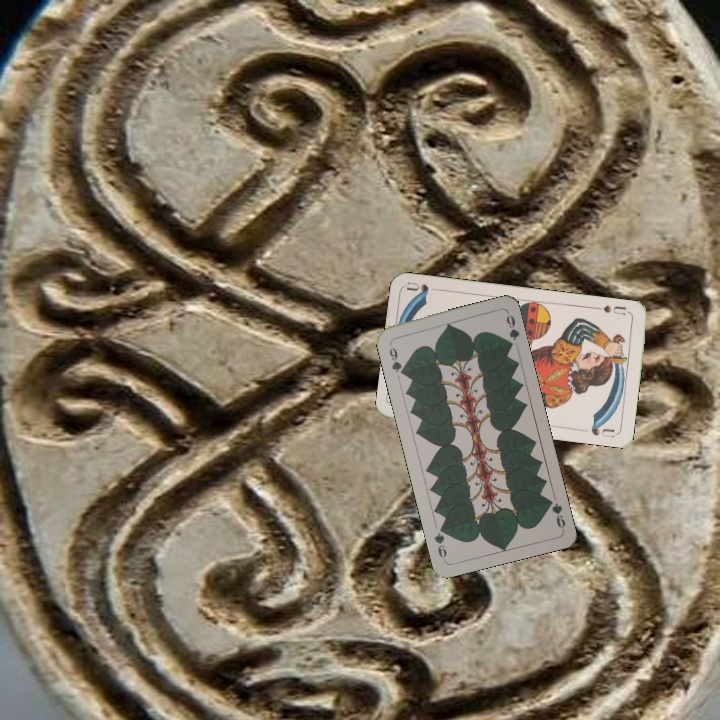G9: (543, 494, 568, 532), (385, 339, 407, 378)
SU: (592, 301, 628, 317)
